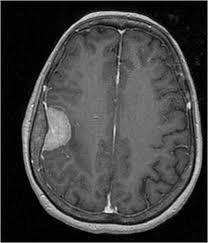Tumour-Meningioma: (38, 106, 87, 173)
